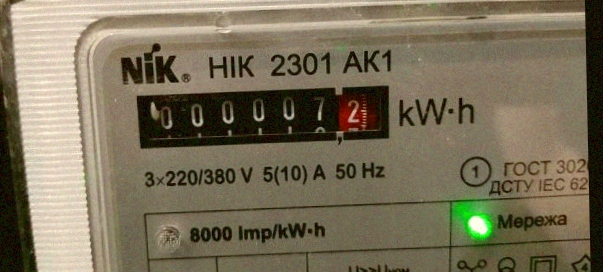0: (218, 97, 236, 125), (188, 100, 205, 128), (280, 93, 296, 122), (157, 103, 174, 130), (250, 95, 265, 122)
2: (345, 96, 361, 125)
7: (310, 94, 326, 123)
screen: (127, 76, 402, 154)
